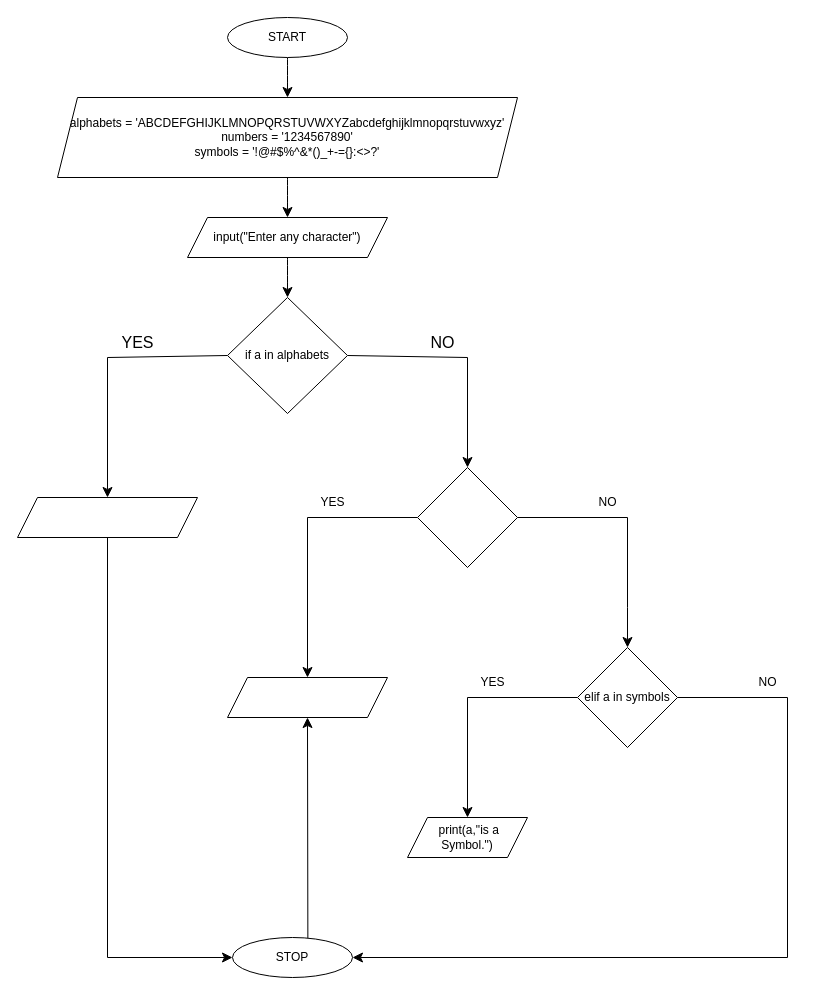
The diagram is 815 pixels wide and 995 high, and some of its shapes have lost their labels. The shapes that lost their labels are listed below. From the top down, each one's centre as x and y in pixels, then its label:
[107,517]: print(a,"is an Alphabet.")
[467,517]: elif a in numbers
[307,697]: print(a,"is a Number.")
